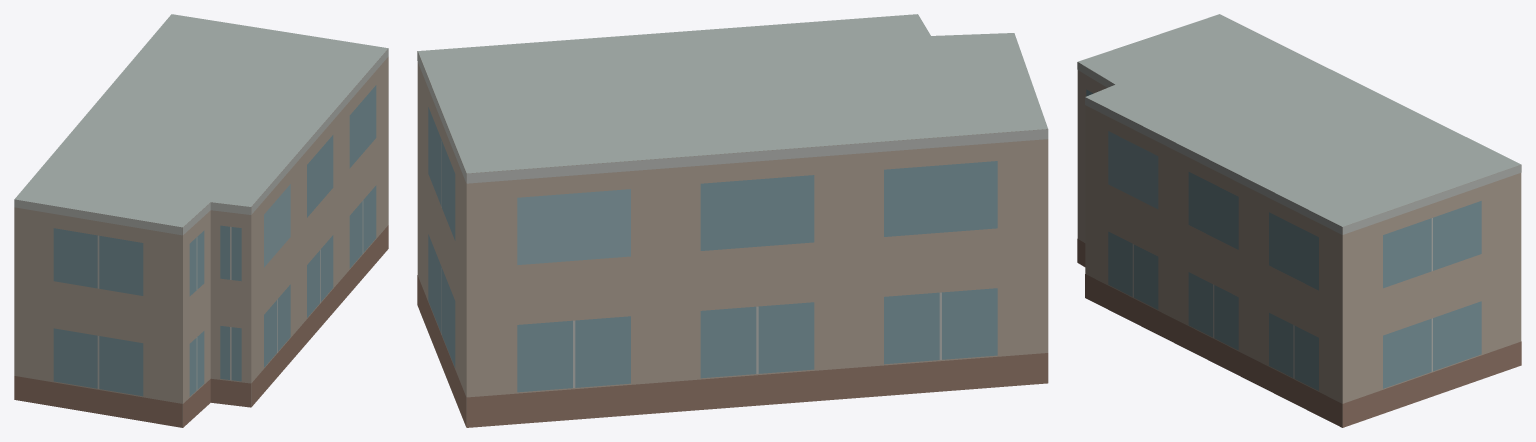
Rendered from survey-upis-32771638.glb.
3 renders of one model, left to right at view 1: azimuth 30°, elevation 25°; view 2: azimuth 150°, elevation 25°; view 3: azimuth 270°, elevation 25°, orthographic. The views are drawn at different scales.
Visible parts, largest first — view 1: survey-upis-32771638.tmp; view 2: survey-upis-32771638.tmp; view 3: survey-upis-32771638.tmp.
Boxes of the visible parts, <box> form: survey-upis-32771638.tmp: <box>14,14,388,427</box>; survey-upis-32771638.tmp: <box>417,14,1048,427</box>; survey-upis-32771638.tmp: <box>1077,14,1521,427</box>.
Bounding box in the file's own units: 13.88 × 6.1 × 12.23.
